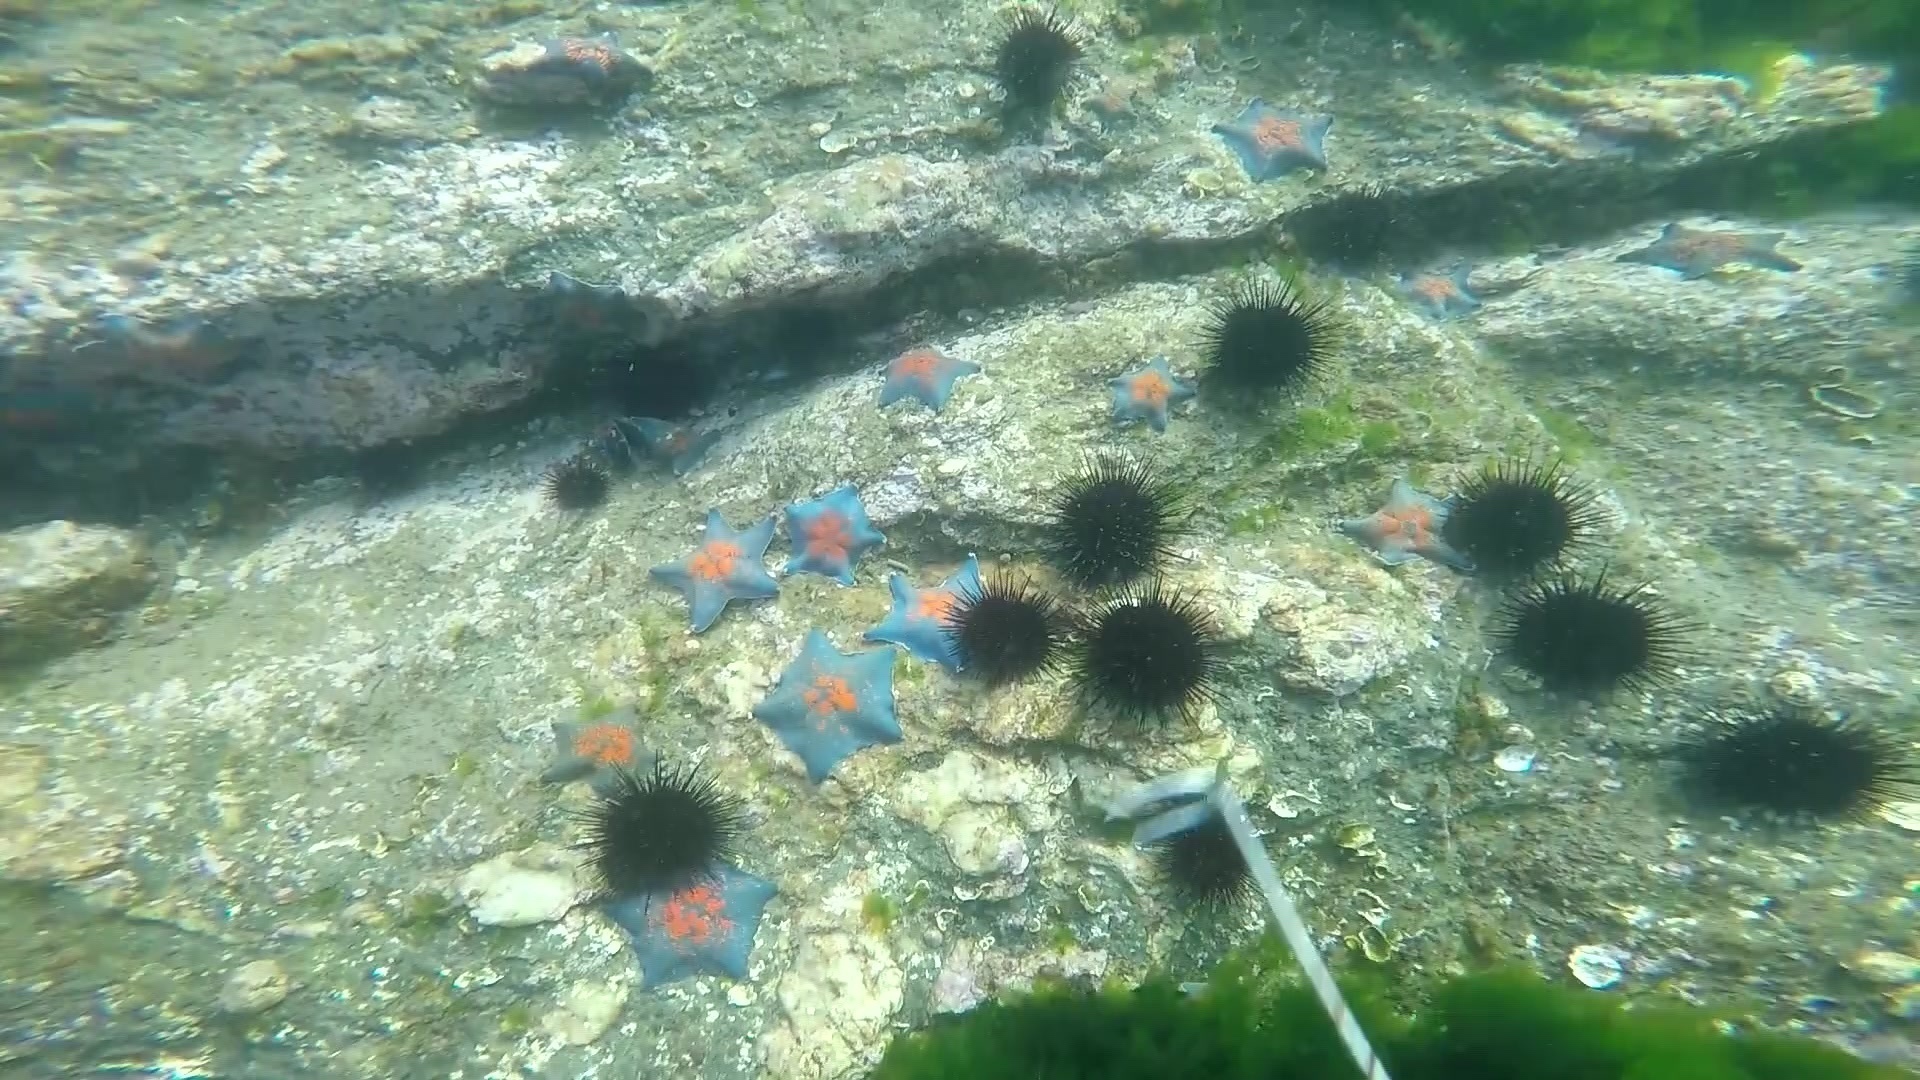echinus: (1673, 695, 1909, 829), (1494, 568, 1691, 705), (1067, 583, 1226, 731), (579, 764, 740, 899), (1443, 458, 1606, 589), (1043, 458, 1185, 596), (1197, 280, 1338, 404), (945, 572, 1069, 694), (980, 5, 1093, 127), (1149, 807, 1261, 913), (1290, 185, 1402, 277), (607, 336, 713, 423), (765, 294, 849, 378), (345, 433, 434, 504), (541, 452, 616, 520)
starfish: (597, 857, 785, 994), (750, 626, 910, 785), (80, 299, 270, 405), (647, 502, 787, 637), (865, 549, 996, 671), (1832, 37, 1919, 215), (1333, 469, 1473, 579), (535, 694, 665, 803), (520, 269, 650, 372), (1, 349, 105, 477), (1618, 216, 1803, 286), (773, 476, 887, 588), (1209, 91, 1338, 187), (525, 25, 659, 111), (869, 338, 985, 417), (1098, 351, 1200, 435), (618, 407, 727, 479), (1386, 255, 1489, 326), (1077, 73, 1147, 136)
